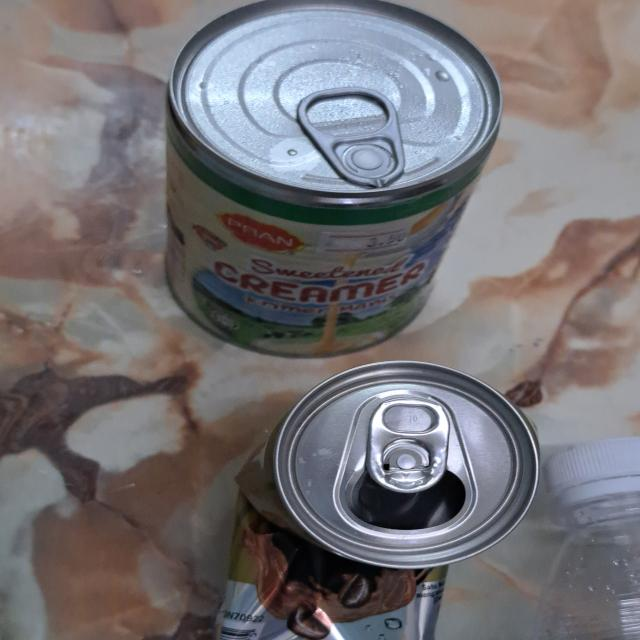can: (162, 0, 500, 359), (209, 361, 544, 640)
plastic bottle: (533, 494, 640, 639)
plastic bottle cap: (546, 438, 640, 496)
pop tab: (299, 86, 406, 189), (371, 400, 451, 492)
